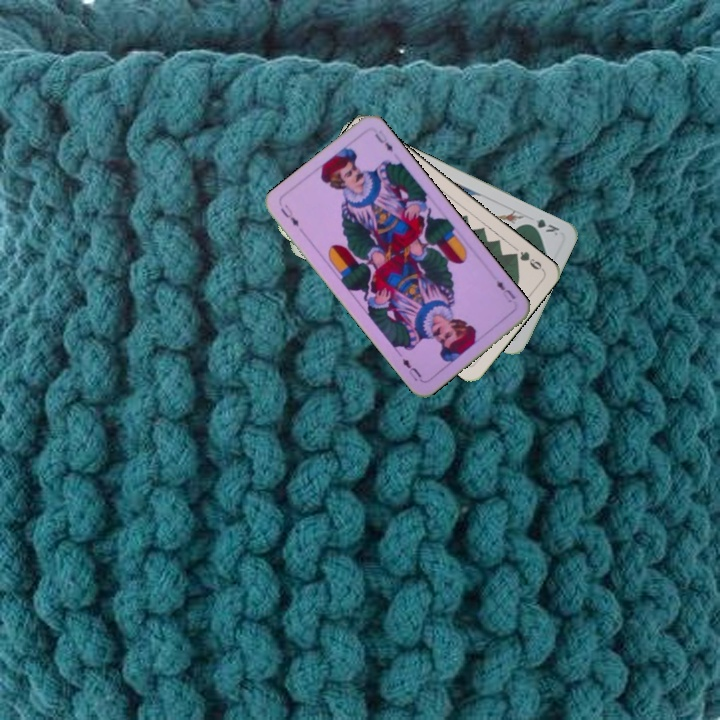EU: (276, 200, 302, 229), (492, 276, 518, 302)
G9: (507, 247, 546, 273)
GK: (523, 215, 562, 238)
